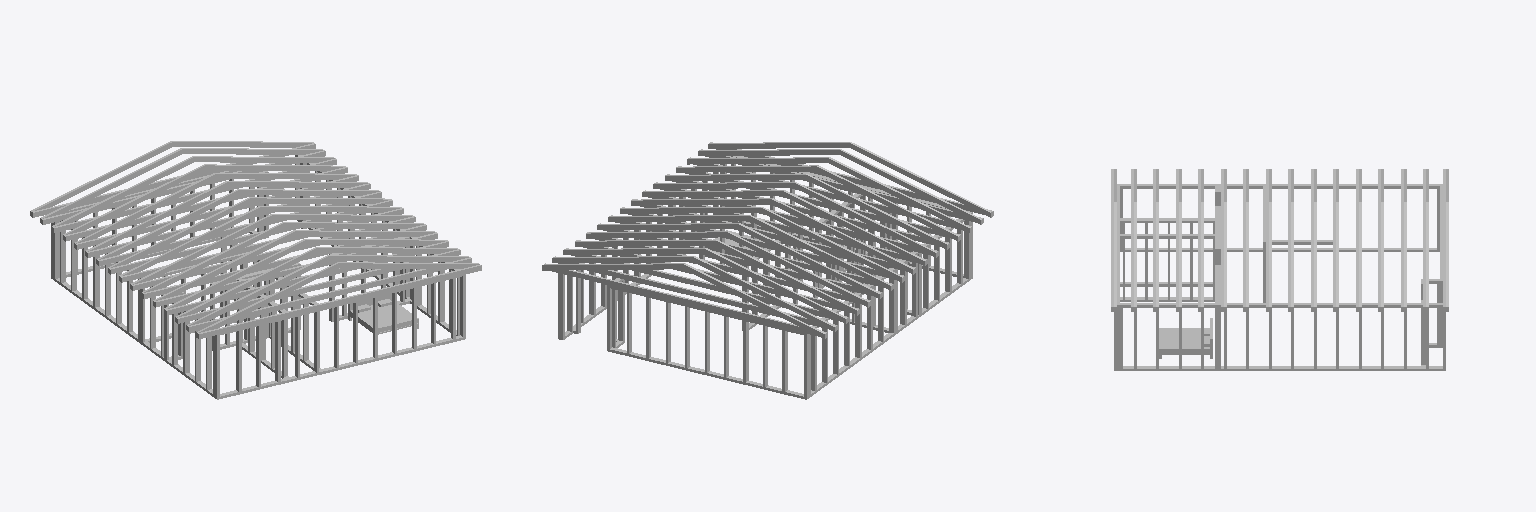
File: weatherford-guest.obj
3 renders of one model, left to right at view 1: azimuth 30°, elevation 25°; view 2: azimuth 150°, elevation 25°; view 3: azimuth 270°, elevation 25°, orthographic.
Visible parts, largest first — view 1: entity0_brush201, entity0_brush161, entity0_brush145, entity0_brush149, entity0_brush165, entity0_brush173, entity0_brush181, entity0_brush185, entity0_brush177, entity0_brush189, entity0_brush197, entity0_brush204 (+28 smaller); view 2: entity0_brush157, entity0_brush173, entity0_brush197, entity0_brush177, entity0_brush149, entity0_brush161, entity0_brush165, entity0_brush193, entity0_brush181, entity0_brush189, entity0_brush205, entity0_brush169 (+26 smaller); view 3: entity0_brush38, entity0_brush0, entity0_brush17, entity0_brush19, entity0_brush1, entity0_brush2.
Part boxes in pixels (x1,y1,x2,y2): entity0_brush201: (186,255,328,330); entity0_brush161: (74,173,216,247); entity0_brush145: (30,141,172,216); entity0_brush149: (40,148,182,223); entity0_brush165: (85,181,227,256); entity0_brush173: (108,198,249,272); entity0_brush181: (130,214,272,289); entity0_brush185: (141,222,283,297); entity0_brush177: (119,206,261,280); entity0_brush189: (153,230,294,305); entity0_brush197: (175,247,317,322); entity0_brush204: (198,299,339,338); entity0_brush157: (716,240,858,315); entity0_brush173: (761,207,903,282); entity0_brush197: (828,157,970,232); entity0_brush177: (772,198,914,274); entity0_brush149: (693,256,835,331); entity0_brush161: (727,231,869,307); entity0_brush165: (738,223,880,298); entity0_brush193: (817,166,959,241); entity0_brush181: (783,190,925,265); entity0_brush189: (806,174,948,249); entity0_brush205: (850,142,991,217); entity0_brush169: (750,215,891,290); entity0_brush38: (1159,328,1209,351); entity0_brush0: (1243,366,1445,370); entity0_brush17: (1249,303,1442,307); entity0_brush19: (1249,184,1442,188); entity0_brush1: (1114,366,1242,370); entity0_brush2: (1249,248,1439,251).
Bounding box in the file's own units: 928 × 336 × 960.